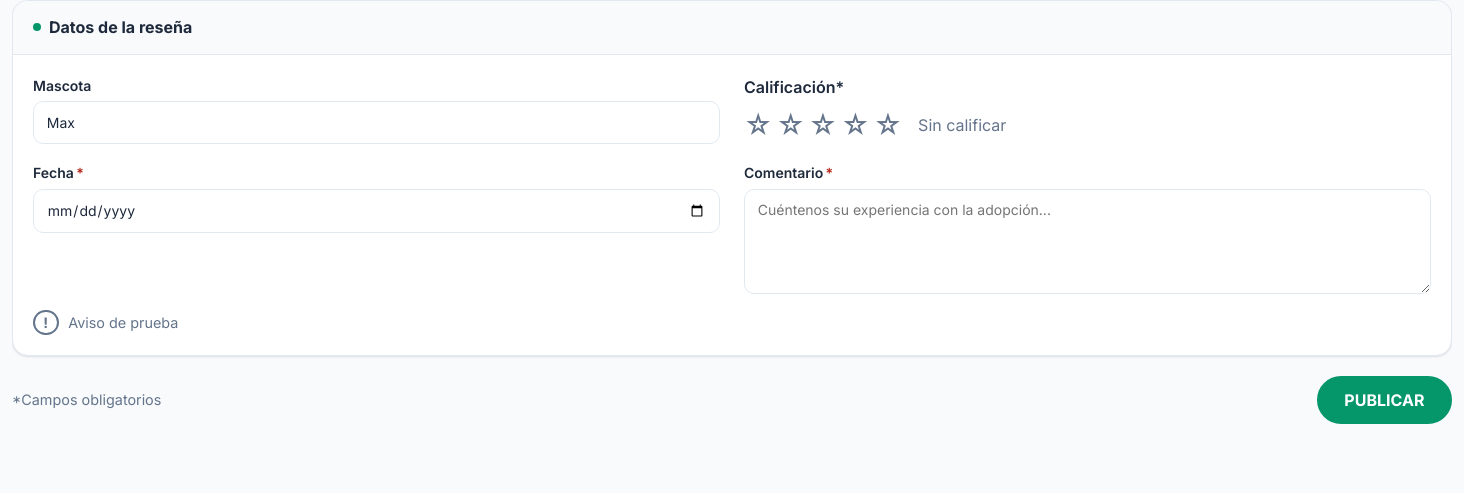
Scenario: ReviewForm › clears the error of the rating when a star is chosen and of the others when edited
This screenshot has width=1464, height=493.
Click the button "Publicar" at (1384, 400), box x1=1317 y1=376 x2=1452 y2=424
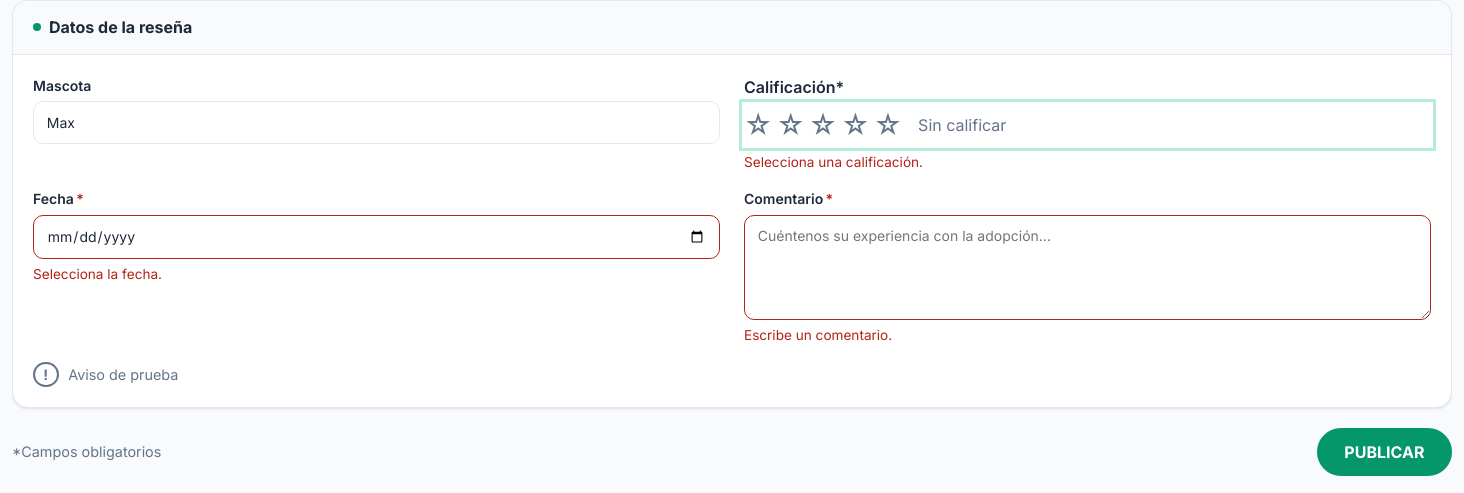
Click the 5th radio button labelled "☆" at (888, 125), box x1=874 y1=112 x2=902 y2=139
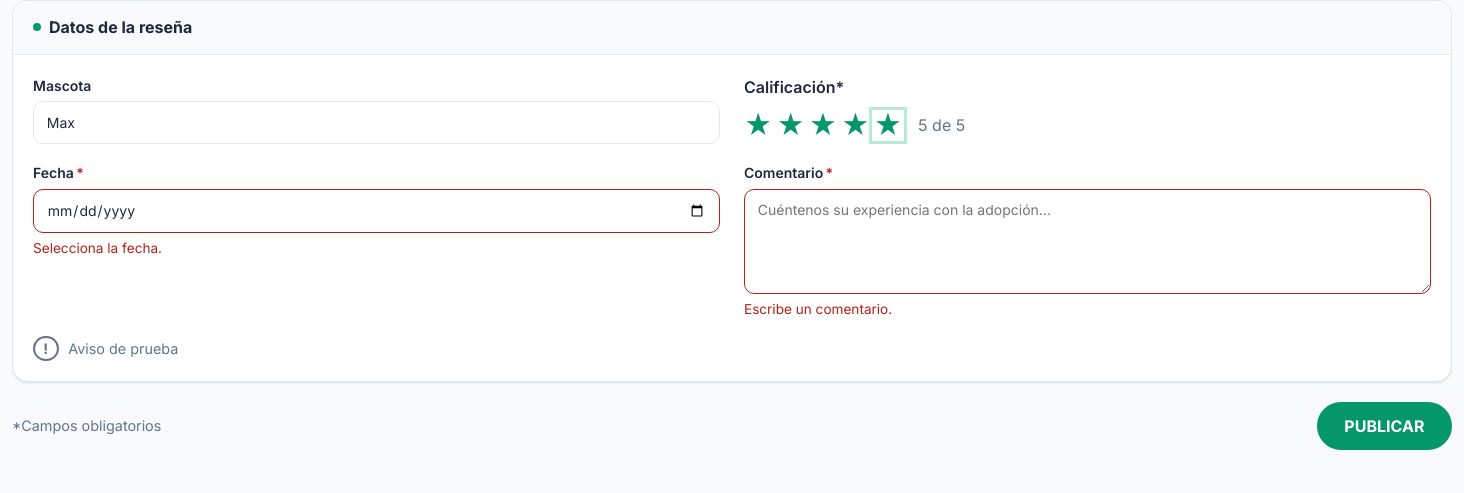
Type "Excelente" into the text box labelled "Comentario" at (1088, 241), box x1=744 y1=189 x2=1431 y2=294
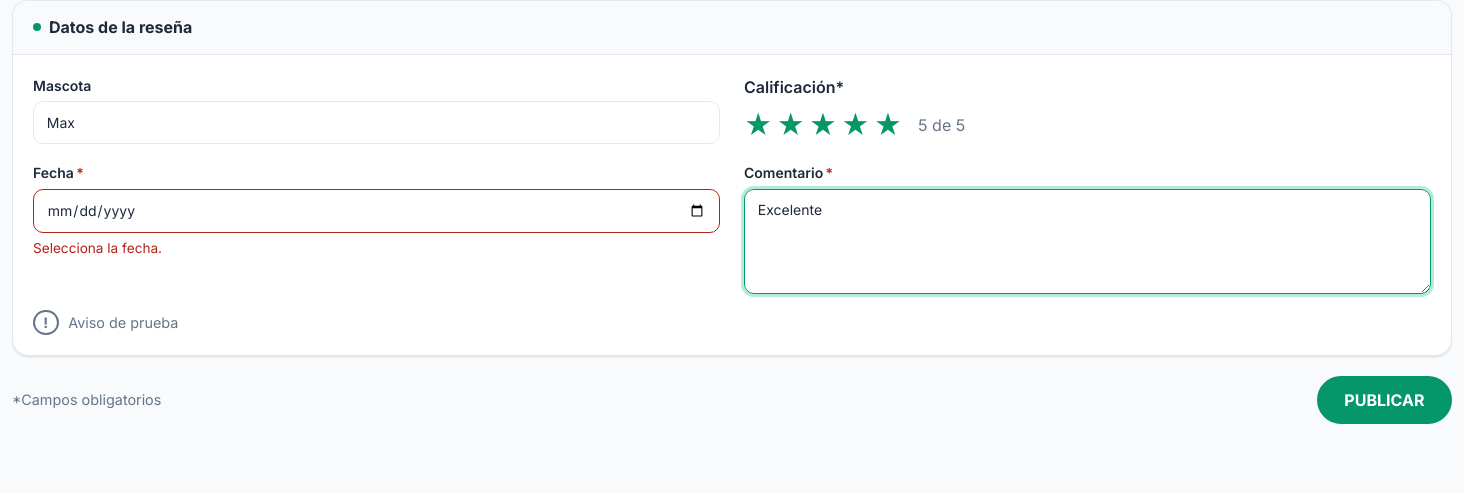
Type "2026-09-05" into the date field labelled "Fecha*" at (376, 211), box x1=33 y1=189 x2=720 y2=233
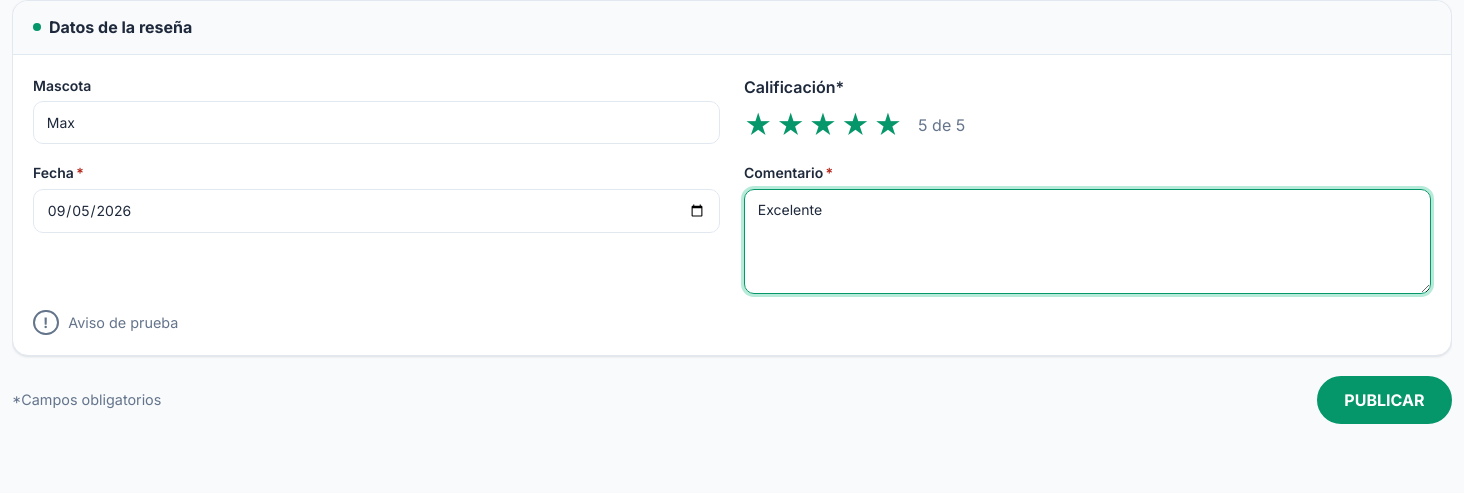
Expected: the text "Selecciona una calificación." is not shown
Result: the text "Selecciona la fecha." is gone
